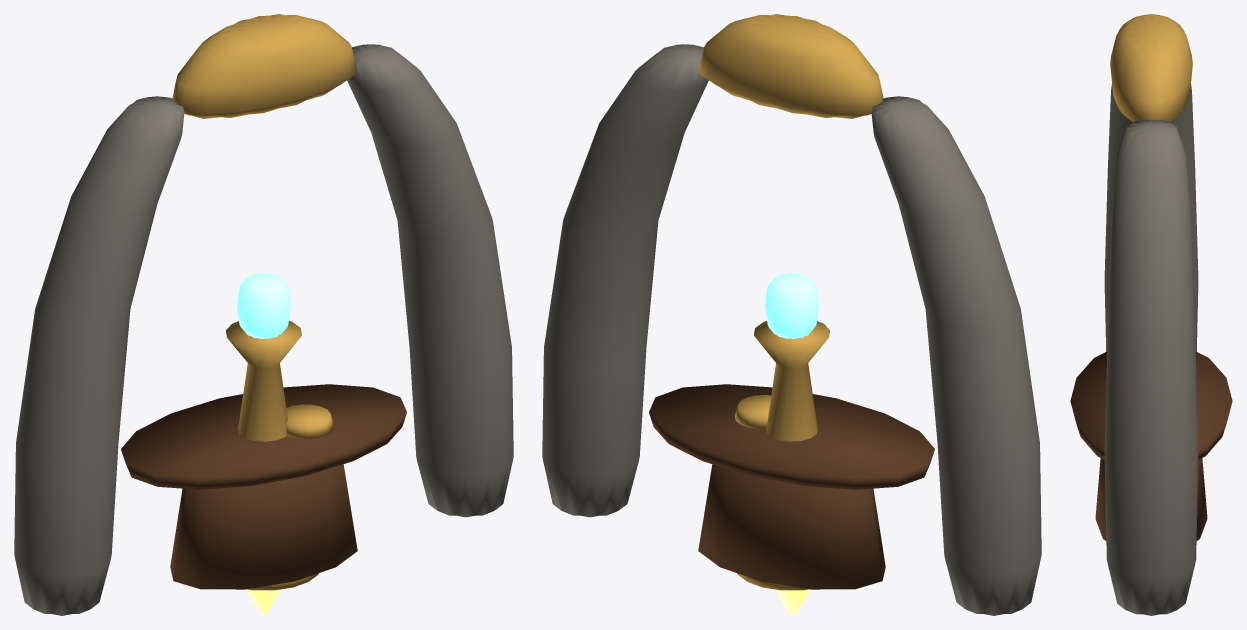
Rendered from props.glb.
3 views of the same model, side by side, from view 1: azimuth 30°, elevation 25°; view 2: azimuth 150°, elevation 25°; view 3: azimuth 270°, elevation 25° (orthographic). The views are drawn at different scales.
Parts seen in each view (by area): view 1: Prop_Portal, Prop_Workbench, Prop_Checkpoint, Prop_Fragment; view 2: Prop_Portal, Prop_Workbench, Prop_Checkpoint, Prop_Fragment; view 3: Prop_Portal, Prop_Workbench.
Boxes of the visible parts, x1=… form: Prop_Portal: x1=14, y1=14, x2=513, y2=615; Prop_Workbench: x1=121, y1=384, x2=406, y2=589; Prop_Checkpoint: x1=226, y1=273, x2=301, y2=441; Prop_Fragment: x1=245, y1=573, x2=318, y2=615; Prop_Portal: x1=542, y1=14, x2=1041, y2=615; Prop_Workbench: x1=649, y1=384, x2=934, y2=589; Prop_Checkpoint: x1=754, y1=273, x2=829, y2=441; Prop_Fragment: x1=737, y1=573, x2=810, y2=615; Prop_Portal: x1=1104, y1=14, x2=1198, y2=615; Prop_Workbench: x1=1070, y1=351, x2=1232, y2=540.
Size of the model in its own units: 3.49 by 4.03 by 1.1.
